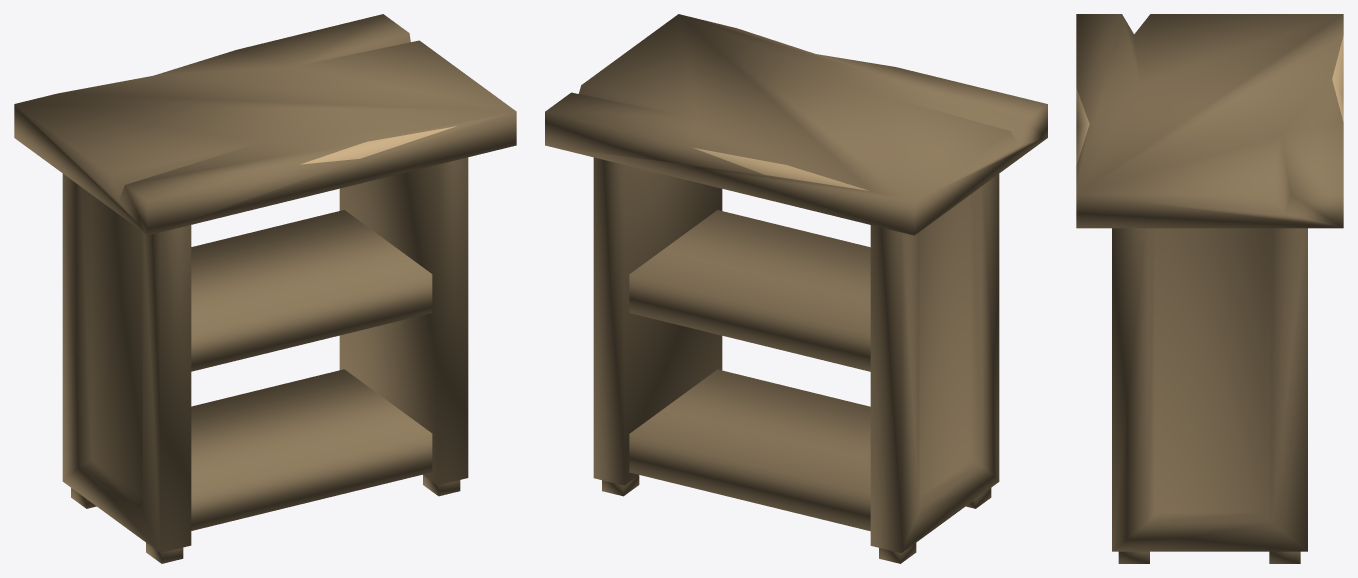
Rendered from rpgpp_ag_shelf_small_01.fbx.
The picture shows the model from 3 angles, left to right: view 1: azimuth 30°, elevation 25°; view 2: azimuth 150°, elevation 25°; view 3: azimuth 270°, elevation 25°; orthographic projection.
Parts seen in each view (by area): view 1: rpgpp_ag_shelf_small_01; view 2: rpgpp_ag_shelf_small_01; view 3: rpgpp_ag_shelf_small_01.
Part boxes in pixels (left/top/right/bottom): rpgpp_ag_shelf_small_01: left=14, top=14, right=516, bottom=563; rpgpp_ag_shelf_small_01: left=545, top=14, right=1047, bottom=563; rpgpp_ag_shelf_small_01: left=1076, top=14, right=1343, bottom=563.
Size of the model in its own units: 0.8 by 0.8 by 0.5007.
